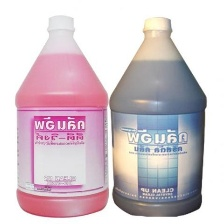cleaning_solution: (12, 12, 113, 220), (108, 13, 208, 219)
